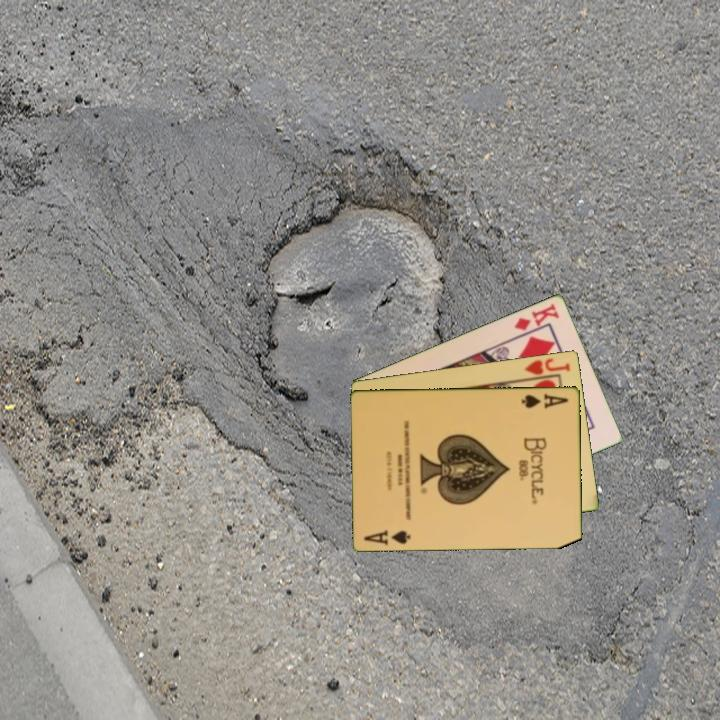As: (361, 526, 413, 548), (518, 390, 571, 411)
Jh: (518, 354, 573, 382)
Kd: (511, 299, 562, 339)
